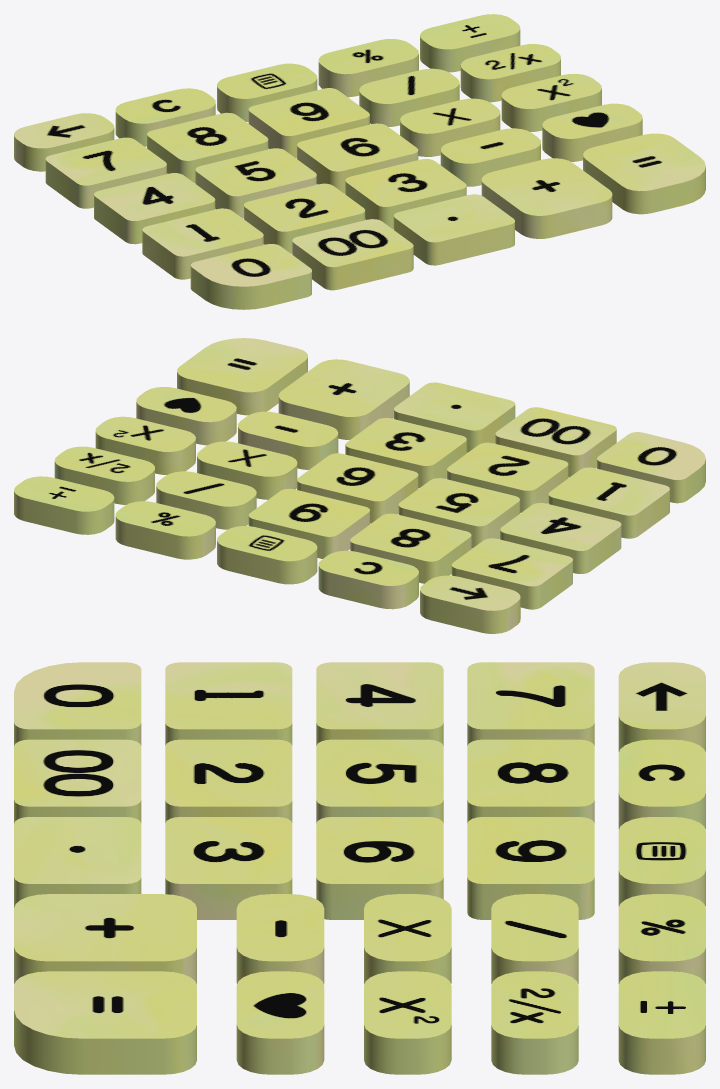
The model's file is button.glb.
3 views of the same model, one above another, from view 1: azimuth 30°, elevation 25°; view 2: azimuth 150°, elevation 25°; view 3: azimuth 270°, elevation 25° (orthographic). The views are drawn at different scales.
Parts seen in each view (by area): view 1: Cube.176, Cube.177, Cube.161, Cube.166, Cube.165, Cube.173, Cube.167, Cube.170, Cube.172, Cube.168, Cube.169, Cube.171 (+13 smaller); view 2: Cube.176, Cube.177, Cube.173, Cube.167, Cube.170, Cube.175, Cube.174, Cube.165, Cube.166, Cube.172, Cube.168, Cube.169 (+13 smaller); view 3: Cube.177, Cube.176, Cube.172, Cube.169, Cube.175, Cube.167, Cube.170, Cube.165, Cube.168, Cube.171, Cube.173, Cube.174 (+13 smaller).
Part boxes in pixels (bbox=[...]): Cube.176: bbox=[481, 158, 612, 238]; Cube.177: bbox=[583, 133, 705, 214]; Cube.161: bbox=[190, 244, 311, 309]; Cube.166: bbox=[393, 194, 514, 265]; Cube.165: bbox=[292, 219, 413, 290]; Cube.173: bbox=[45, 137, 166, 208]; Cube.167: bbox=[142, 208, 263, 279]; Cube.170: bbox=[94, 173, 215, 244]; Cube.172: bbox=[297, 123, 418, 193]; Cube.168: bbox=[244, 183, 365, 253]; Cube.169: bbox=[345, 159, 466, 228]; Cube.171: bbox=[195, 148, 316, 218]; Cube.176: bbox=[278, 359, 409, 439]; Cube.177: bbox=[177, 338, 307, 415]; Cube.173: bbox=[451, 538, 572, 609]; Cube.167: bbox=[548, 467, 669, 538]; Cube.170: bbox=[500, 503, 621, 573]; Cube.175: bbox=[248, 488, 369, 558]; Cube.174: bbox=[350, 513, 471, 583]; Cube.165: bbox=[495, 407, 616, 477]; Cube.166: bbox=[394, 382, 515, 452]; Cube.172: bbox=[297, 453, 418, 523]; Cube.168: bbox=[447, 442, 568, 512]; Cube.169: bbox=[345, 418, 466, 487]; Cube.177: bbox=[14, 971, 196, 1074]; Cube.176: bbox=[14, 894, 196, 983]; Cube.172: bbox=[316, 817, 443, 919]; Cube.169: bbox=[165, 817, 292, 919]; Cube.175: bbox=[467, 817, 594, 919]; Cube.167: bbox=[165, 662, 292, 745]; Cube.170: bbox=[316, 662, 443, 745]; Cube.165: bbox=[14, 739, 141, 823]; Cube.168: bbox=[165, 739, 292, 822]; Cube.171: bbox=[316, 739, 443, 823]; Cube.173: bbox=[467, 662, 594, 745]; Cube.174: bbox=[467, 739, 594, 822].
Size of the model in its own units: 13.44 by 0.6 by 10.44.
Materials: 1 (1 with a texture image).
